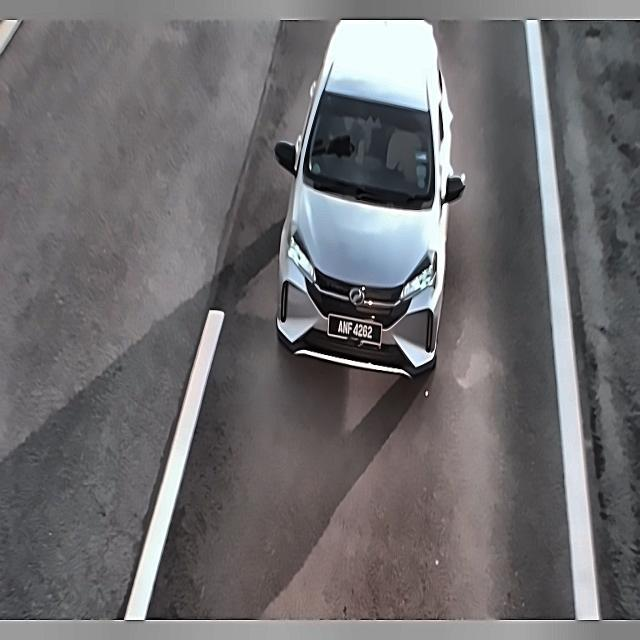car: (324, 305, 386, 350)
